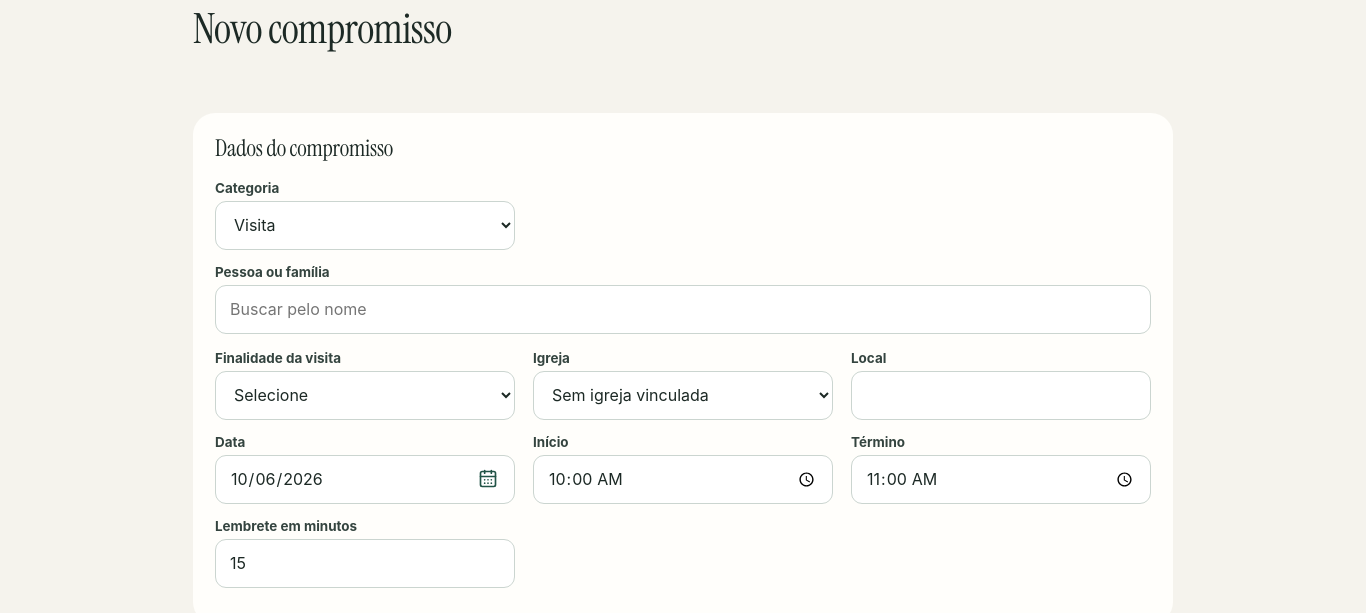
Test: Ceia do Senhor › sem registro de diaconato, os dois ficam para digitar; materiais completos esconde o resto
Step 1. Select "Ceia do Senhor" in the dropdown labelled "Categoria" → (365, 225), box [215,201,515,250]
(page scrolled)
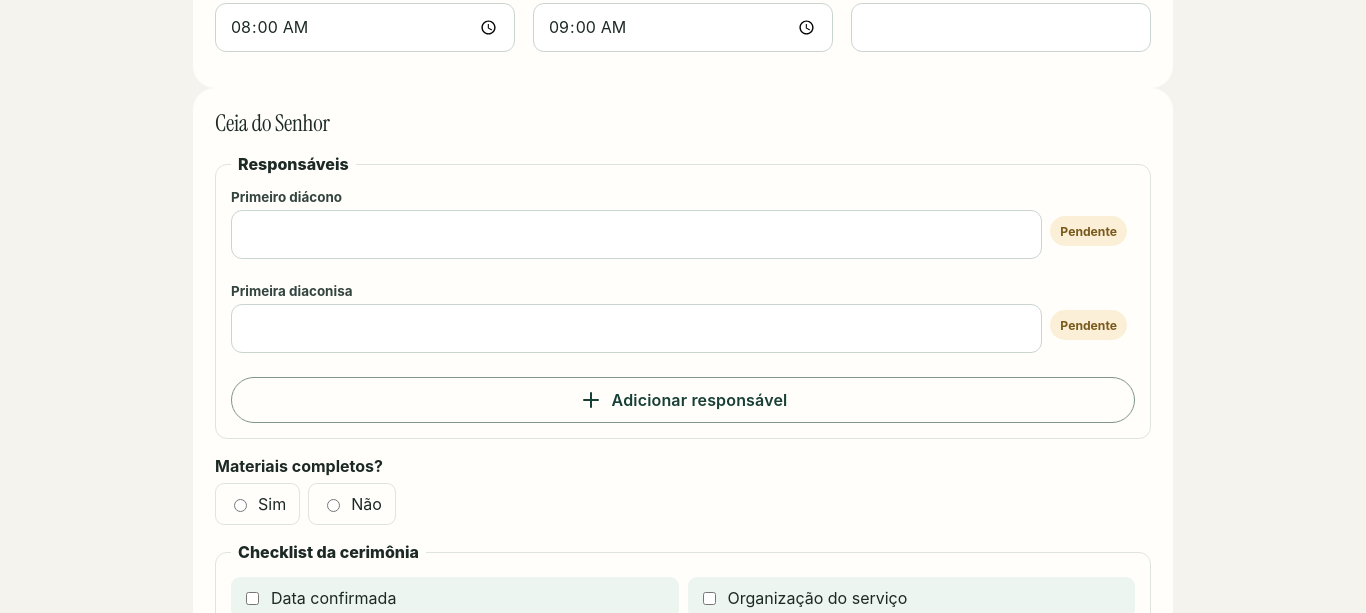
Expected: the text "Pendente" is shown 2 times, [1050,216,1127,246]; [1050,310,1127,340]
Step 2. Click the radio button labelled "Não" → click(334, 506), box [327,499,340,512]
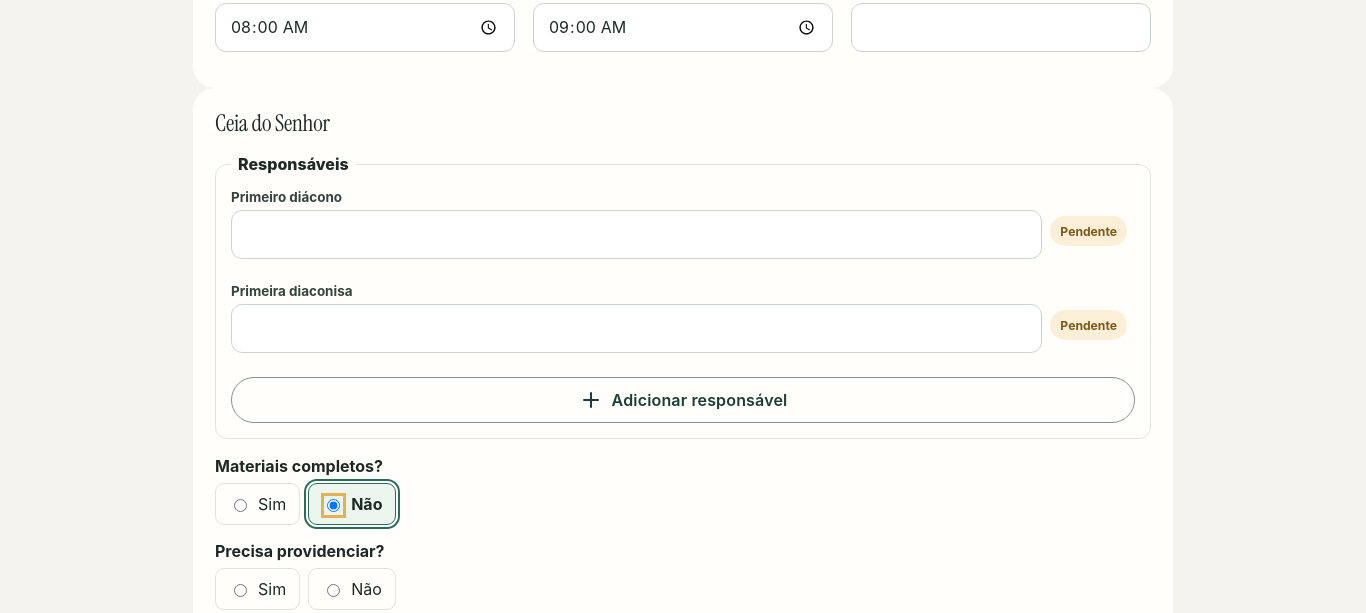
Step 3. Click the radio button labelled "Sim" below "Precisa providenciar?" → click(240, 591), box [234,584,247,597]
(page scrolled)
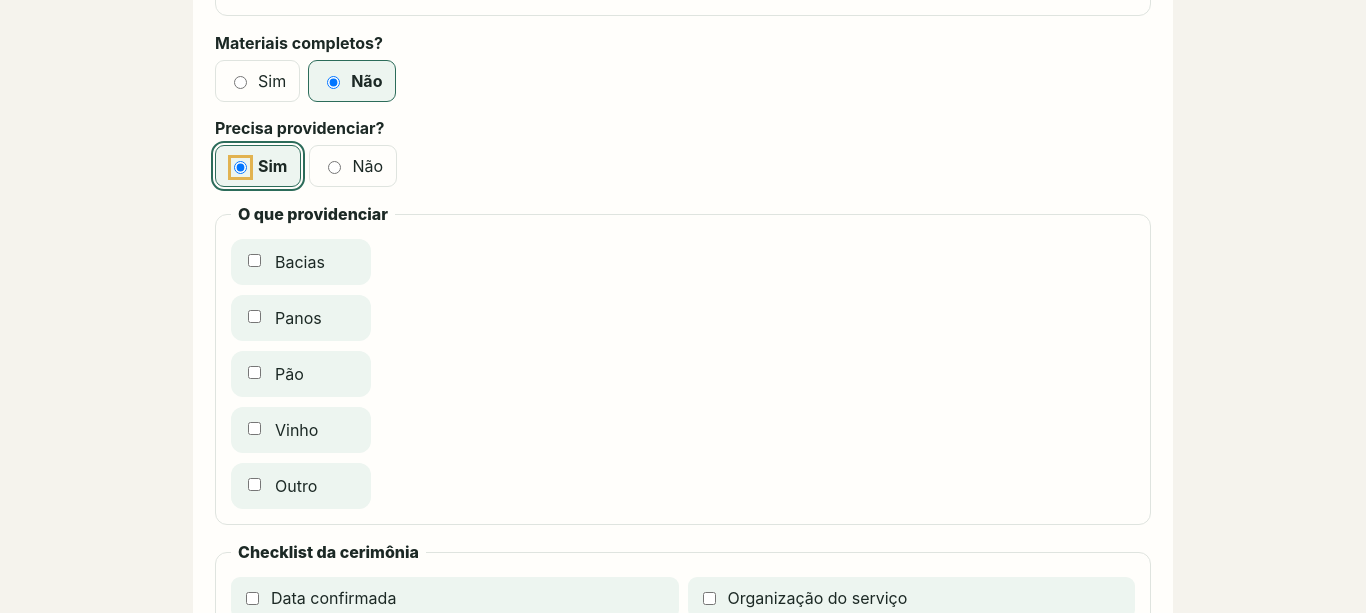
Step 4. Click the checkbox labelled "Vinho" → click(254, 429), box [248,422,261,435]
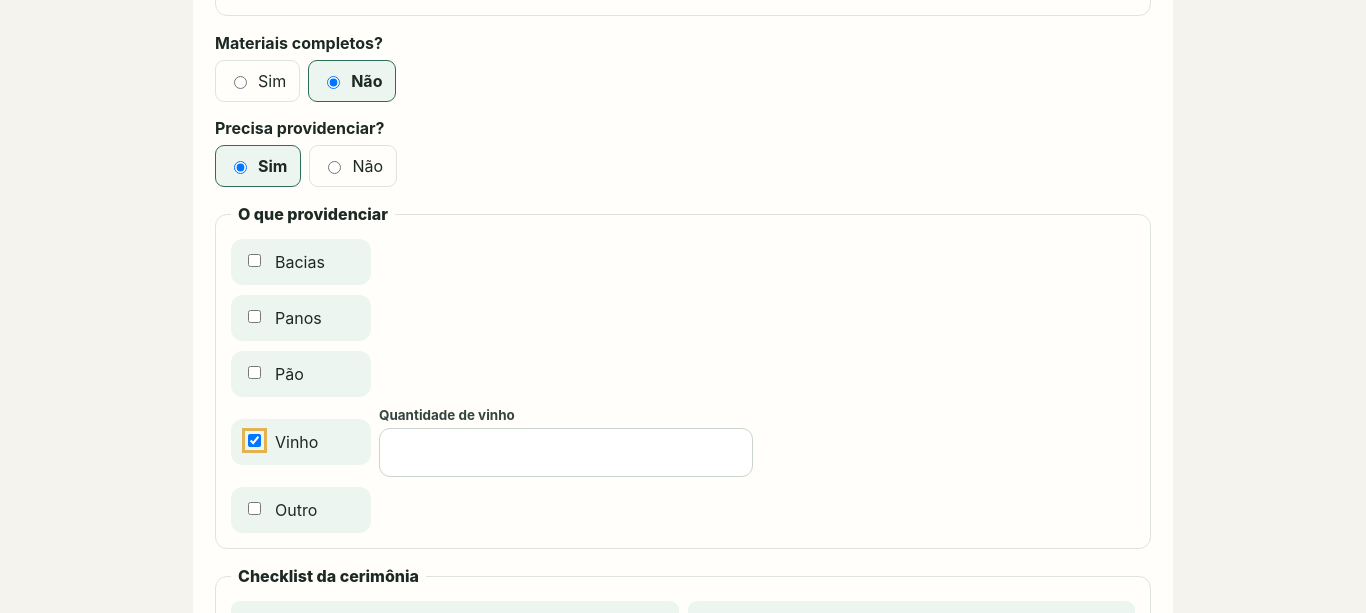
Step 5. Click the radio button labelled "Sim" below "Materiais completos?" → click(240, 83), box [234,76,247,89]
(page scrolled)
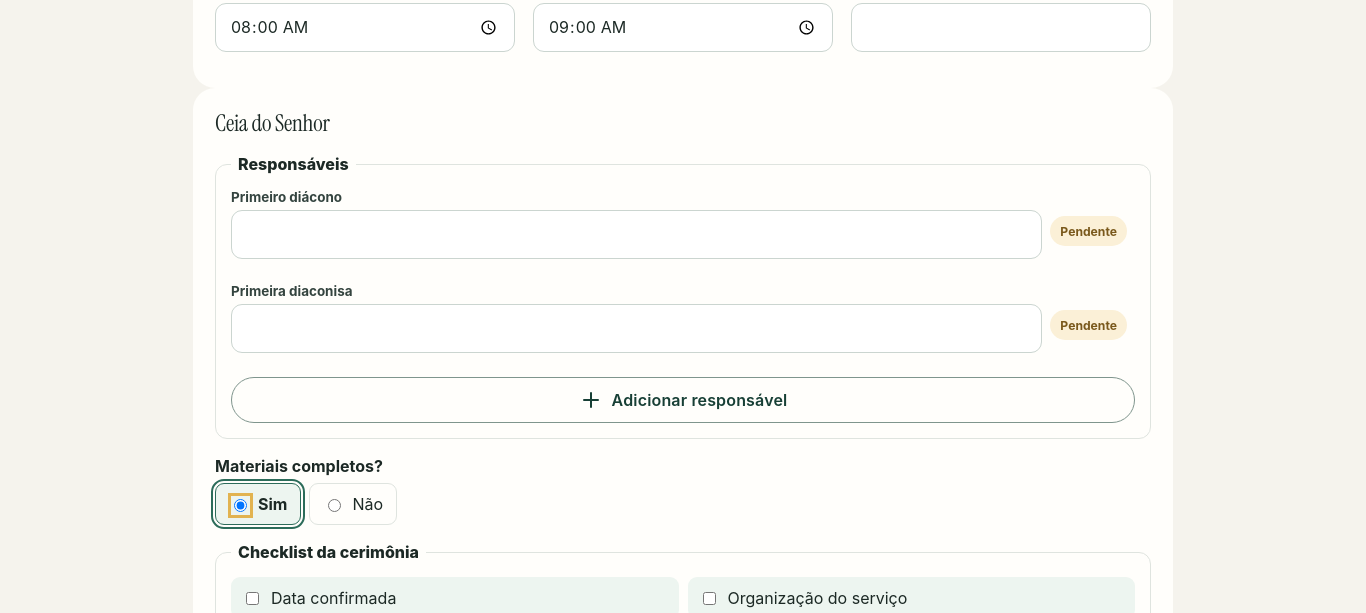
Expected: the text "Precisa providenciar?" is gone
Expected: the text "Vinho" is gone
